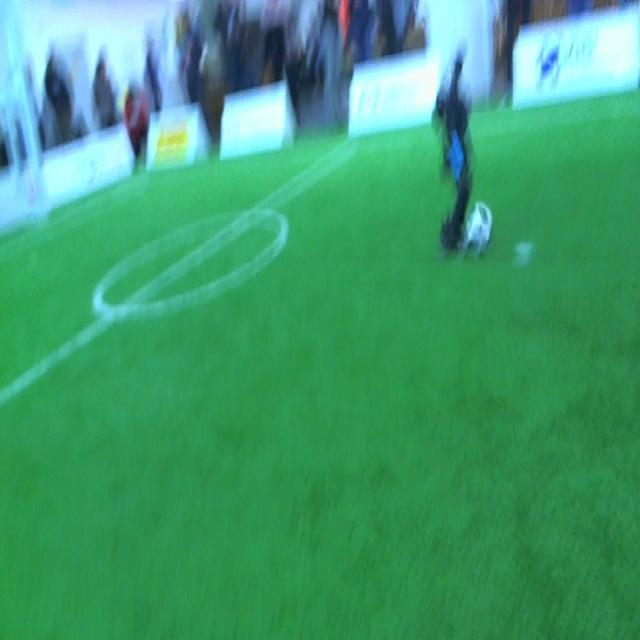ball: (459, 197, 494, 263)
